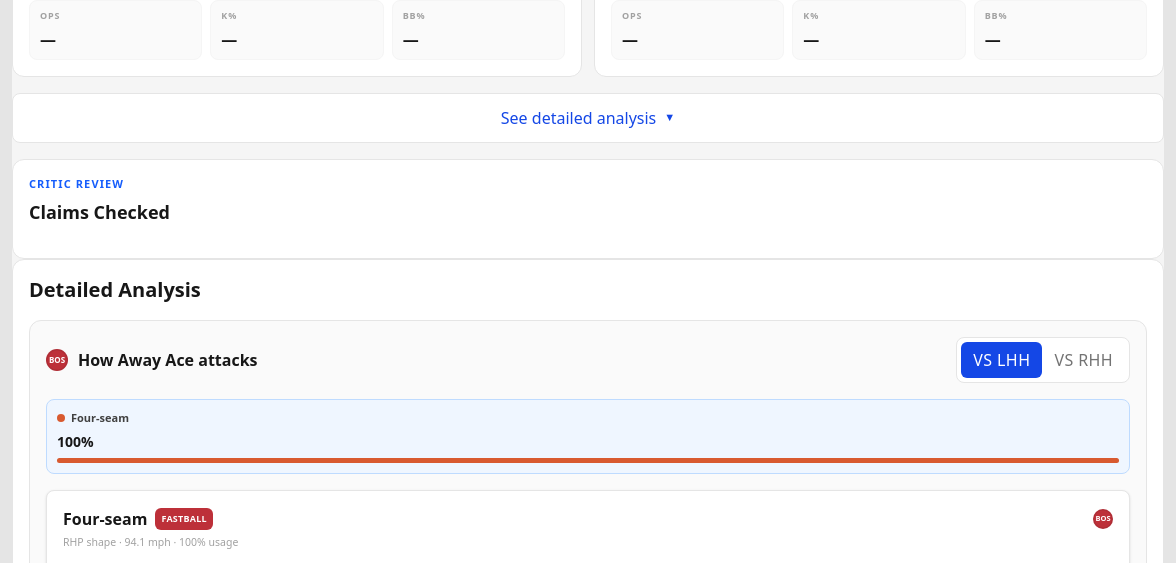
Test case: F9 accessible exact tooltips › LHH opens on focus, has an aria relationship and dismisses with Escape
(page scrolled)
Step 1. Focus the button "vs LHH" → (1002,360), box [961,342,1042,378]
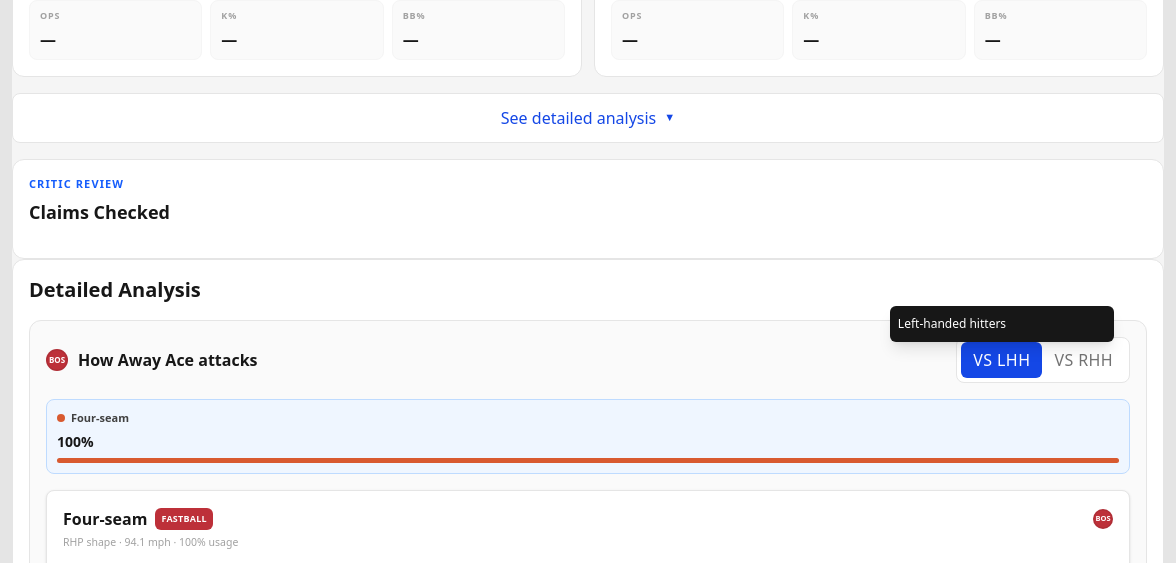
Result: the tooltip reads "Left-handed hitters" at [898,315,1006,332]
Step 2. Press Escape in the button "vs LHH", box [961,342,1042,378]
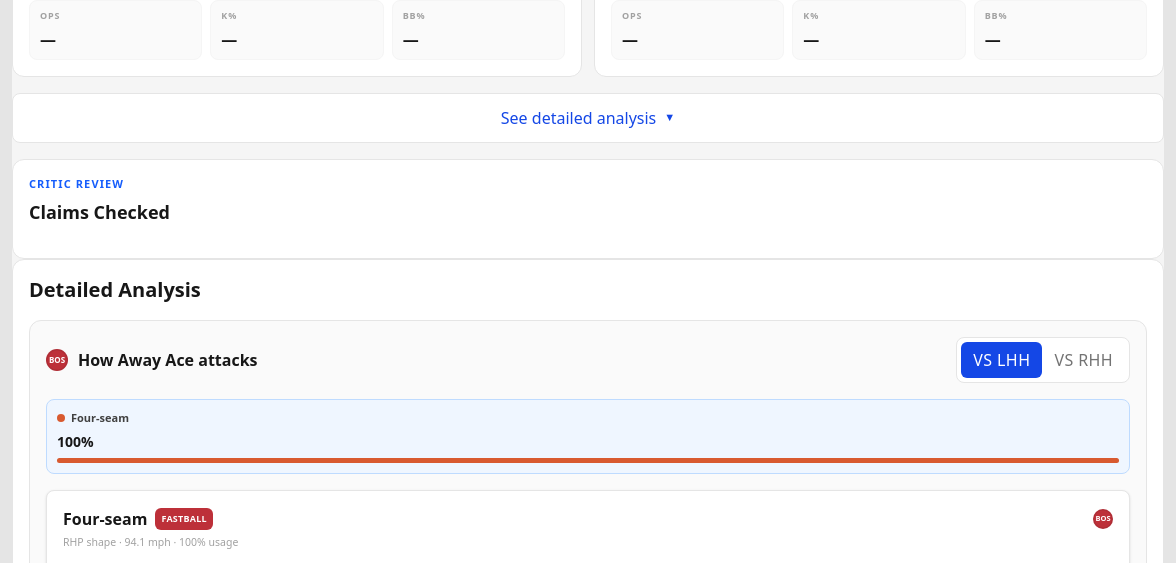
Result: the tooltip "Left-handed hitters" is gone
Step 3. Hover over the button "vs LHH" → (1002,360), box [961,342,1042,378]
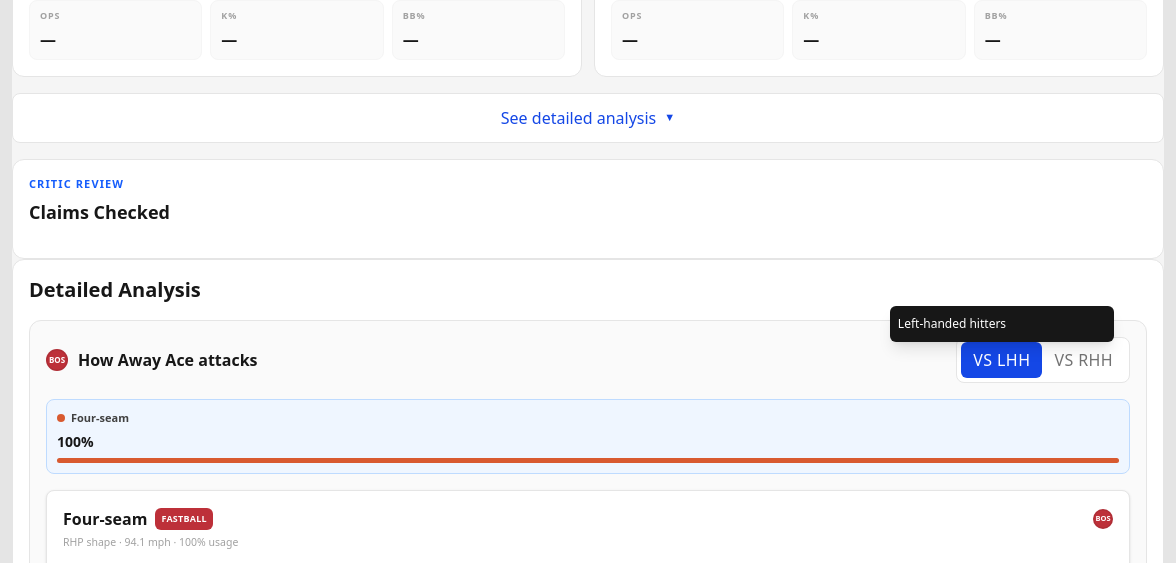
Result: the tooltip reads "Left-handed hitters" at [898,315,1006,332]
Step 4. Move the pointer off the button "vs LHH", box [961,342,1042,378]
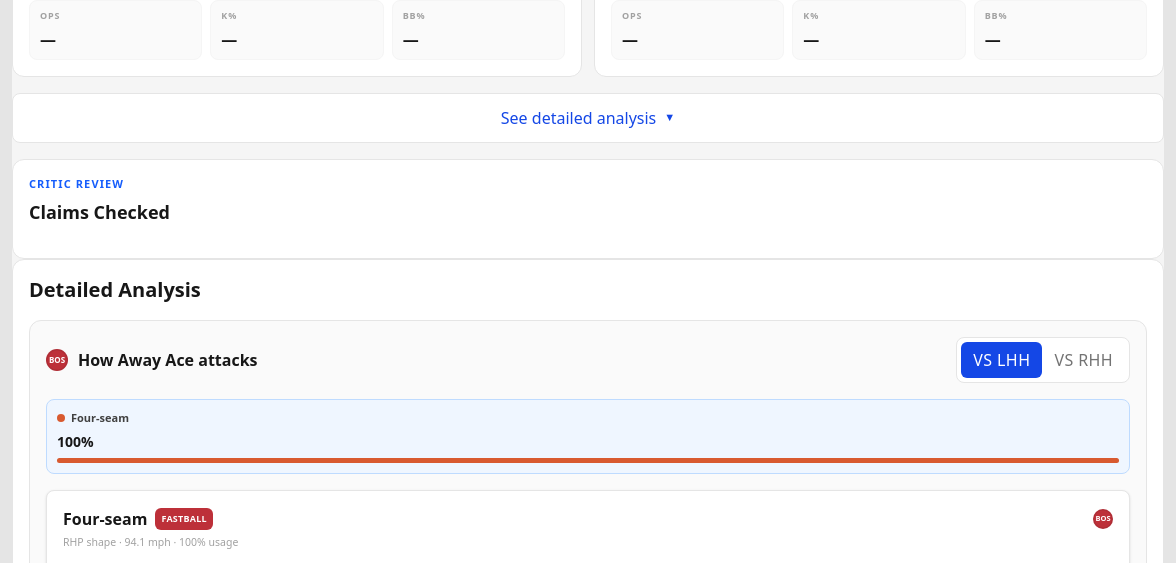
Result: the tooltip "Left-handed hitters" is gone
Step 5. Focus the button "vs LHH" → (1002,360), box [961,342,1042,378]
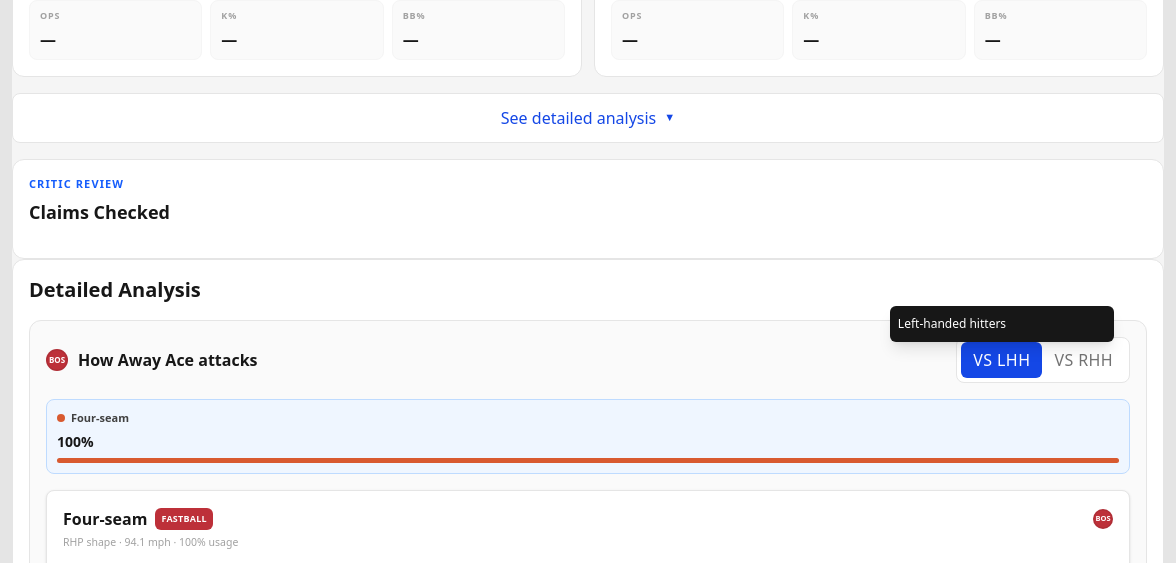
Result: the tooltip reads "Left-handed hitters" at [898,315,1006,332]
Step 6. Leave the button "vs LHH", box [961,342,1042,378]
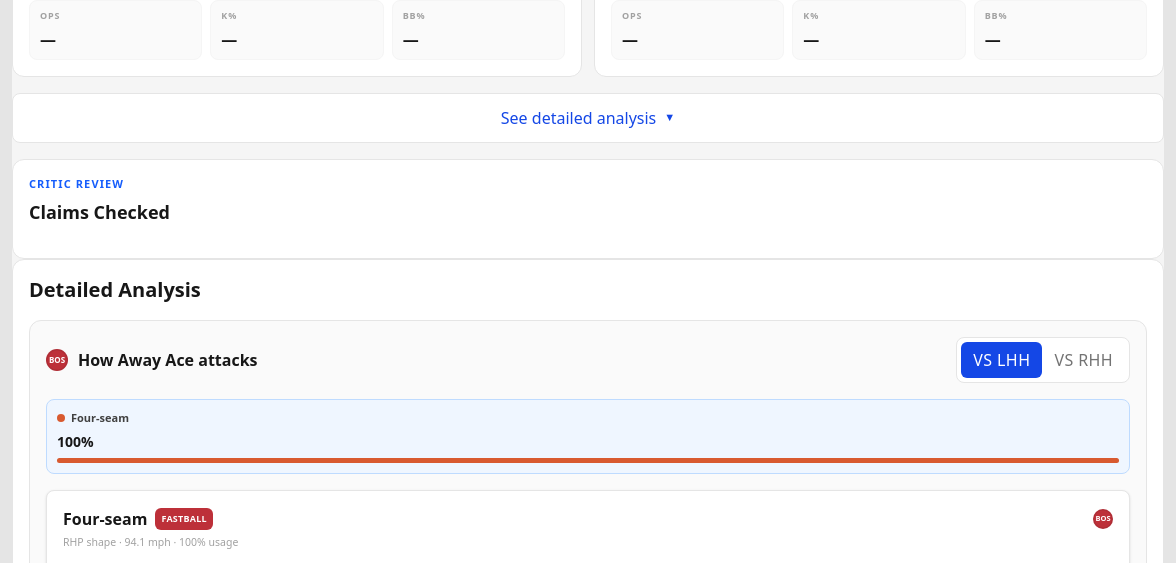
Result: the tooltip "Left-handed hitters" is gone
